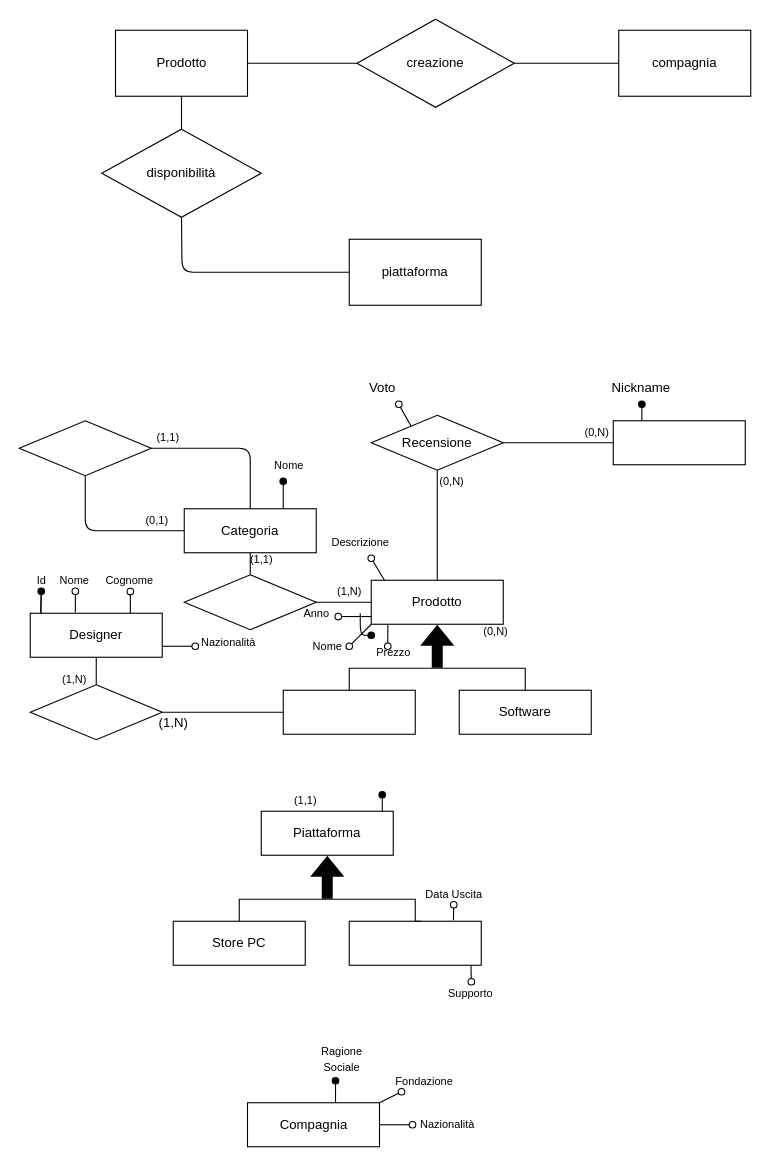
This 770x1166 diagram has some shape labels left out. The shapes that lost their labels are listed below. From the top down, each one's centre as x and y in pixels, then its label:
At point 84,448: "Sottogenere".
At point 678,442: "Utente".
At point 249,602: "Tipologia".
At point 95,712: "Progettazione".
At point 348,711: "Gioco".
At point 414,942: "Console".
